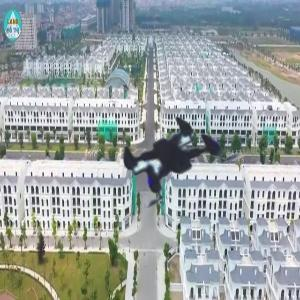drone: (78, 64, 267, 253)
